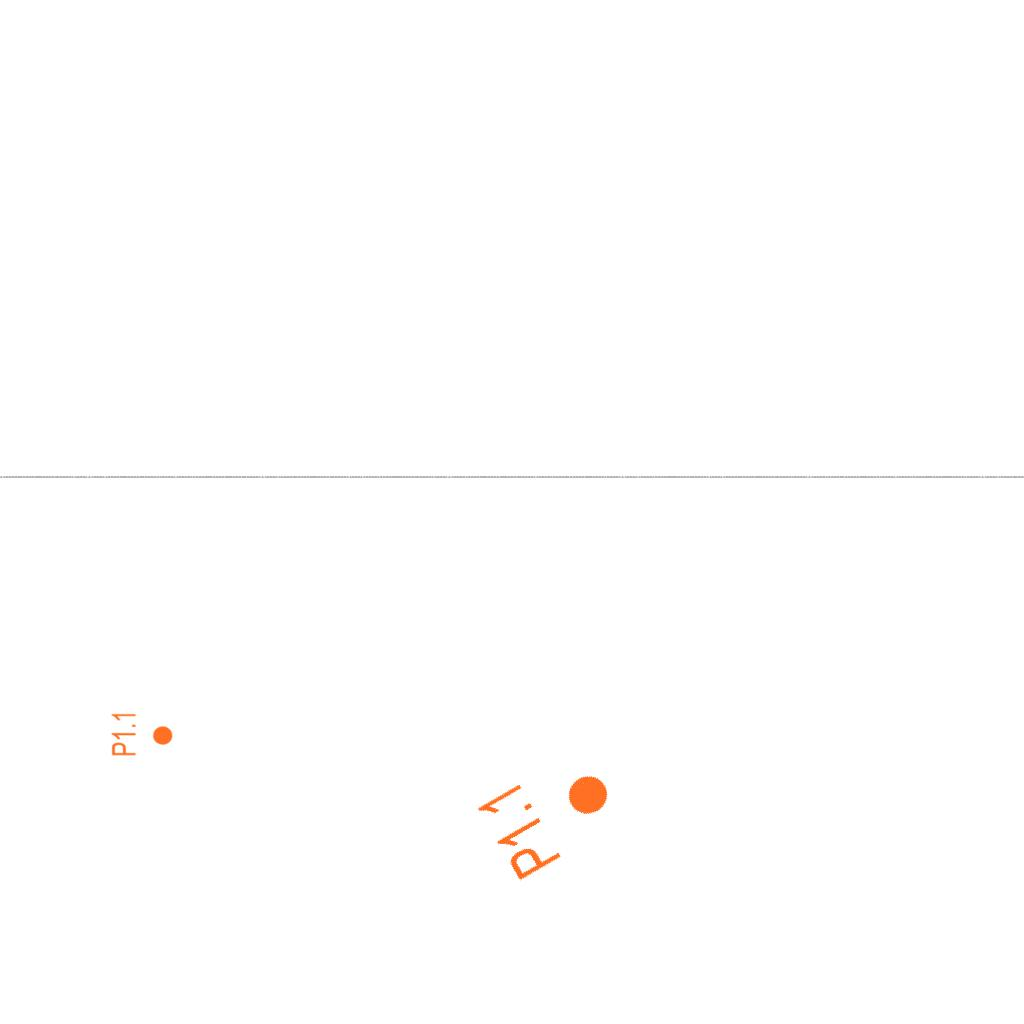Downlight_LED_Einbauleuchten_Flur_2: (471, 740, 630, 886), (110, 711, 174, 757)
